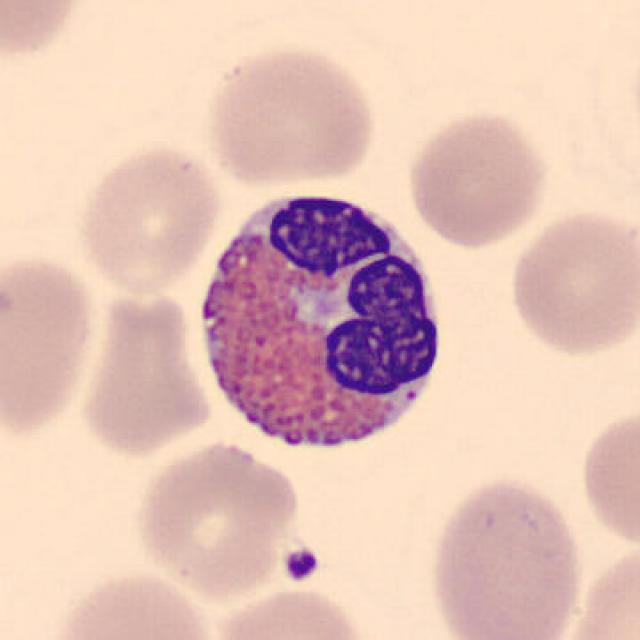Eosinophil: (185, 169, 459, 476)
Platelets: (278, 545, 324, 585)
RBC: (130, 436, 304, 601), (423, 472, 588, 640), (201, 41, 380, 190), (77, 284, 215, 462), (73, 139, 224, 298), (503, 205, 638, 362), (404, 106, 551, 250), (0, 246, 101, 442), (46, 567, 220, 640), (574, 402, 638, 554), (209, 583, 375, 640), (554, 537, 640, 640), (0, 0, 89, 65)
